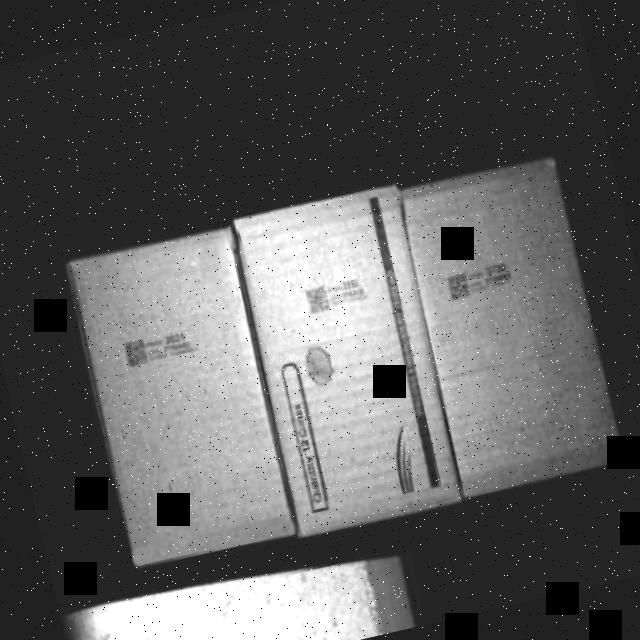box: (58, 222, 304, 574), (227, 180, 468, 539), (394, 148, 628, 494)
